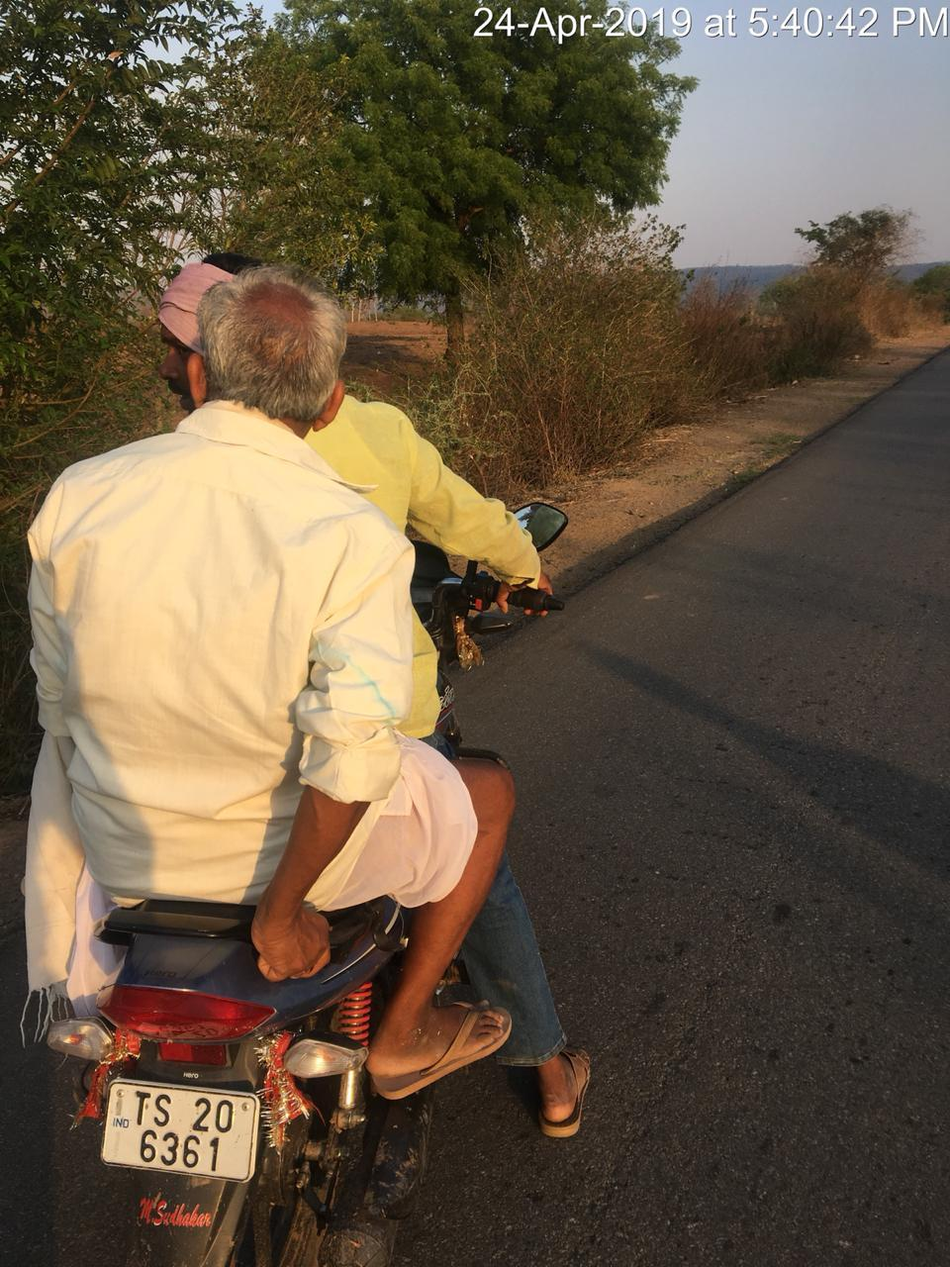plate: (75, 1060, 289, 1203)
